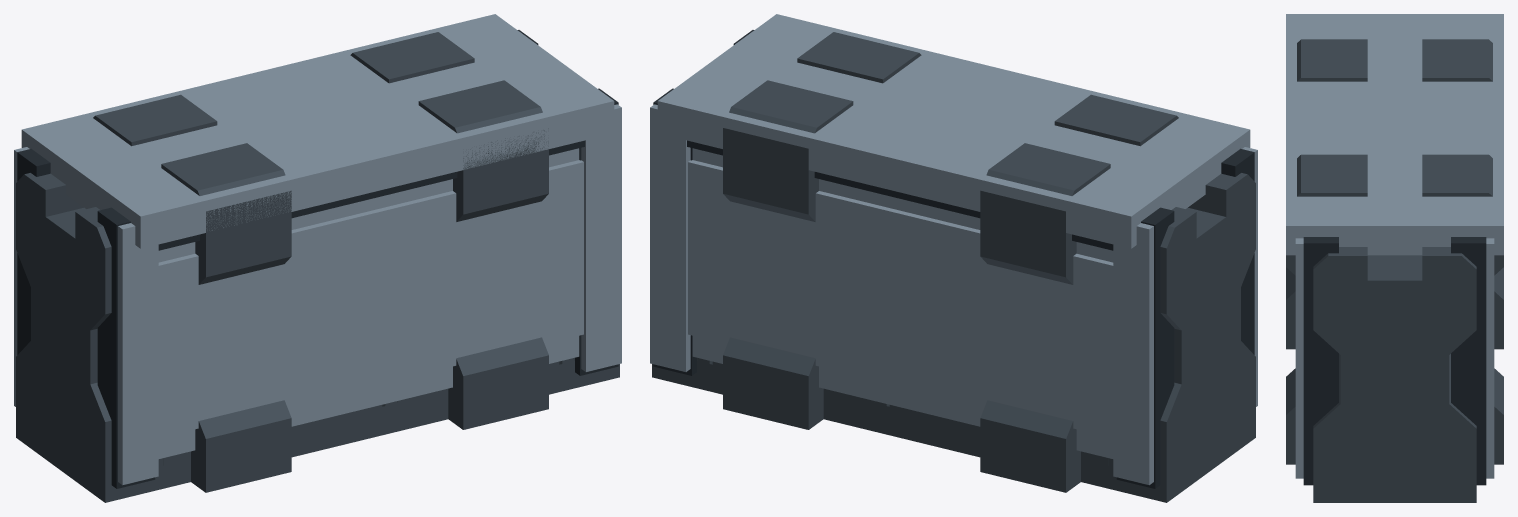
Rendered from SM_CRHex_WallStraight_Tier3_Steel.fbx.
The picture shows the model from 3 angles, left to right: view 1: azimuth 30°, elevation 25°; view 2: azimuth 150°, elevation 25°; view 3: azimuth 270°, elevation 25°; orthographic projection. The views are drawn at different scales.
Parts seen in each view (by area): view 1: SM_CRHex_WallStraight_Tier3_Steel_Detail, SM_CRHex_WallStraight_Tier3_Steel_Core, SM_CRHex_WallStraight_Tier3_Steel_StylePanels, SM_CRHex_WallStraight_Tier3_Steel_StyleRibs, SM_CRHex_WallStraight_Tier3_Steel_Accent; view 2: SM_CRHex_WallStraight_Tier3_Steel_Detail, SM_CRHex_WallStraight_Tier3_Steel_Core, SM_CRHex_WallStraight_Tier3_Steel_StylePanels, SM_CRHex_WallStraight_Tier3_Steel_StyleRibs, SM_CRHex_WallStraight_Tier3_Steel_Accent; view 3: SM_CRHex_WallStraight_Tier3_Steel_Core, SM_CRHex_WallStraight_Tier3_Steel_Detail, SM_CRHex_WallStraight_Tier3_Steel_StyleRibs.
Part boxes in pixels (x1=…): SM_CRHex_WallStraight_Tier3_Steel_Detail: x1=14, y1=14, x2=621, y2=485; SM_CRHex_WallStraight_Tier3_Steel_Core: x1=16, y1=32, x2=619, y2=502; SM_CRHex_WallStraight_Tier3_Steel_StylePanels: x1=158, y1=148, x2=579, y2=458; SM_CRHex_WallStraight_Tier3_Steel_StyleRibs: x1=17, y1=30, x2=618, y2=488; SM_CRHex_WallStraight_Tier3_Steel_Accent: x1=158, y1=140, x2=584, y2=250; SM_CRHex_WallStraight_Tier3_Steel_Detail: x1=650, y1=14, x2=1257, y2=485; SM_CRHex_WallStraight_Tier3_Steel_Core: x1=652, y1=32, x2=1255, y2=502; SM_CRHex_WallStraight_Tier3_Steel_StylePanels: x1=692, y1=148, x2=1113, y2=458; SM_CRHex_WallStraight_Tier3_Steel_StyleRibs: x1=653, y1=30, x2=1254, y2=488; SM_CRHex_WallStraight_Tier3_Steel_Accent: x1=687, y1=140, x2=1113, y2=250; SM_CRHex_WallStraight_Tier3_Steel_Core: x1=1286, y1=39, x2=1503, y2=502; SM_CRHex_WallStraight_Tier3_Steel_Detail: x1=1286, y1=14, x2=1503, y2=478; SM_CRHex_WallStraight_Tier3_Steel_StyleRibs: x1=1303, y1=237, x2=1486, y2=485.
Size of the model in its own units: 2 by 1.1 by 0.8.
